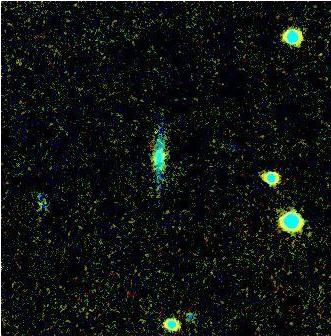star: (140, 117, 170, 147)
